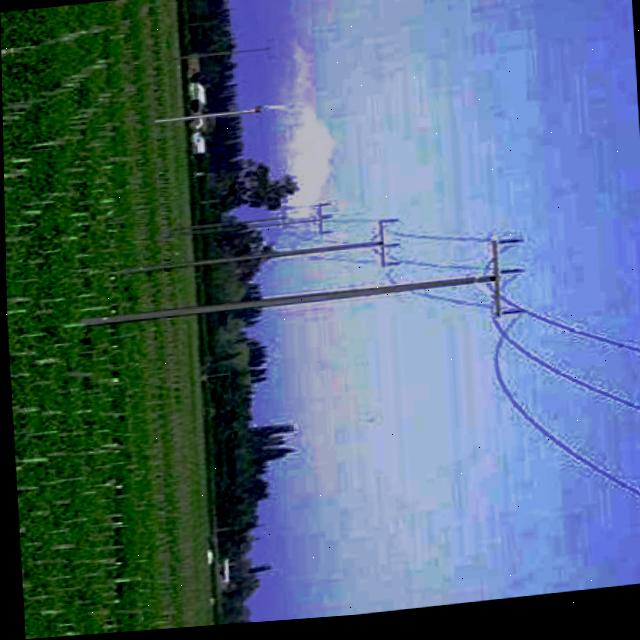poles: (97, 232, 539, 379)
wires: (470, 307, 640, 523)
